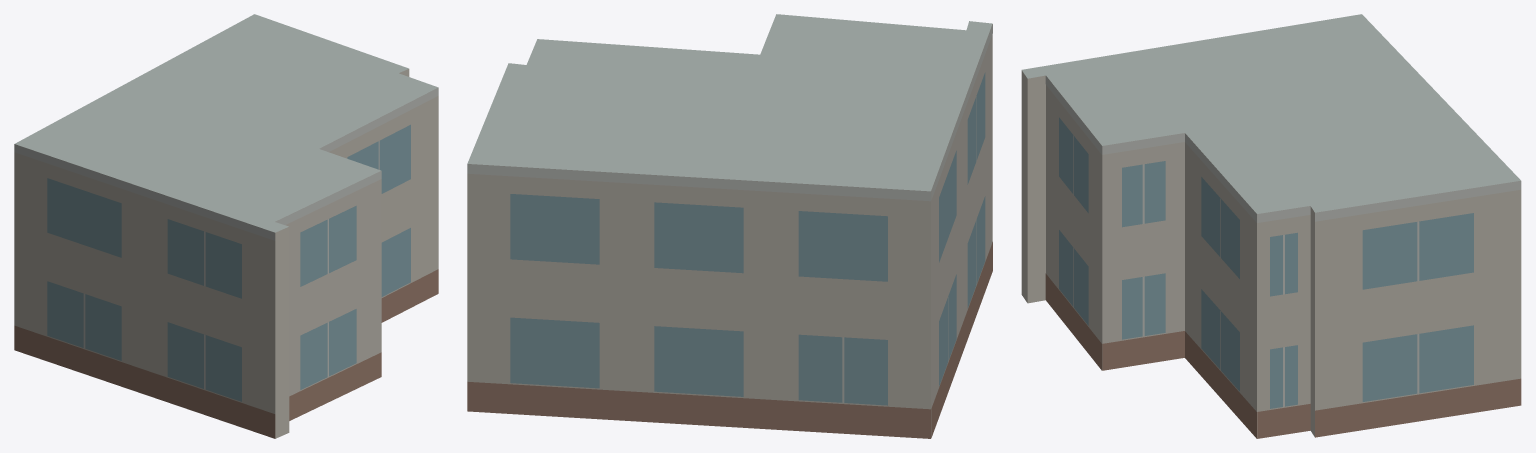
The model's file is survey-upis-32606919.glb.
3 views of the same model, side by side, from view 1: azimuth 30°, elevation 25°; view 2: azimuth 150°, elevation 25°; view 3: azimuth 270°, elevation 25° (orthographic). The views are drawn at different scales.
Parts seen in each view (by area): view 1: survey-upis-32606919.tmp; view 2: survey-upis-32606919.tmp; view 3: survey-upis-32606919.tmp.
Boxes of the visible parts, <box> form: survey-upis-32606919.tmp: <box>14,14,438,438</box>; survey-upis-32606919.tmp: <box>467,14,992,438</box>; survey-upis-32606919.tmp: <box>1021,14,1521,438</box>.
Bounding box in the file's own units: 11.66 × 6.1 × 12.3.
